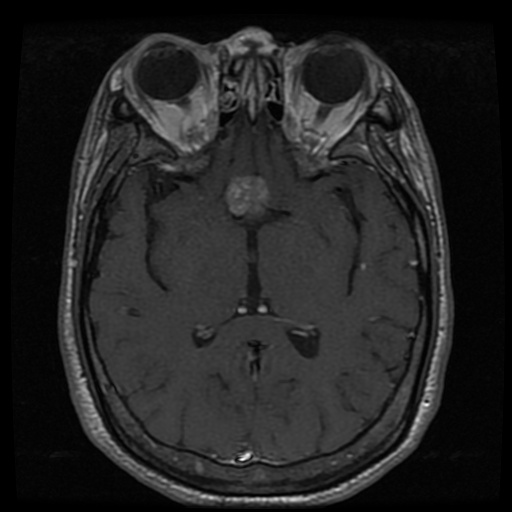pituitary: (228, 176, 268, 213)
